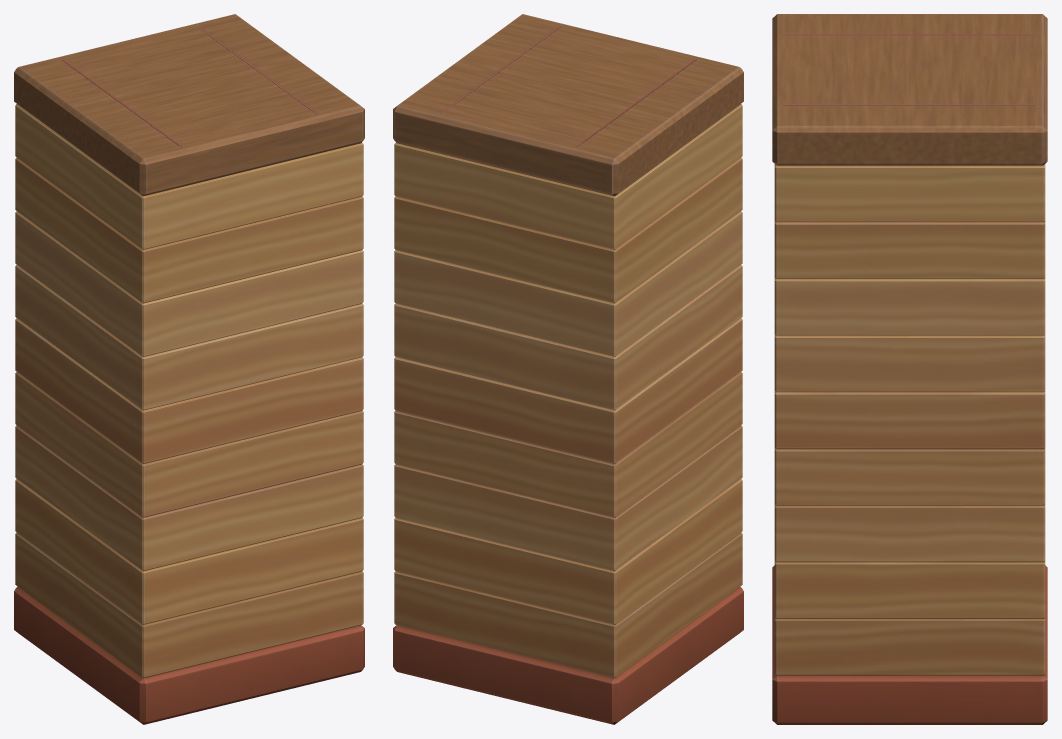
Rendered from kit_wall_commons.glb.
3 renders of one model, left to right at view 1: azimuth 30°, elevation 25°; view 2: azimuth 150°, elevation 25°; view 3: azimuth 270°, elevation 25°, orthographic. The views are drawn at different scales.
Visible parts, largest first — view 1: kit_wall_commons_mesh; view 2: kit_wall_commons_mesh; view 3: kit_wall_commons_mesh.
Boxes of the visible parts, x1=… form: kit_wall_commons_mesh: x1=14, y1=14, x2=364, y2=724; kit_wall_commons_mesh: x1=393, y1=14, x2=743, y2=724; kit_wall_commons_mesh: x1=772, y1=14, x2=1047, y2=724.
Size of the model in its own units: 1 by 2.4 by 1.
Materials: 1 (1 with a texture image).
